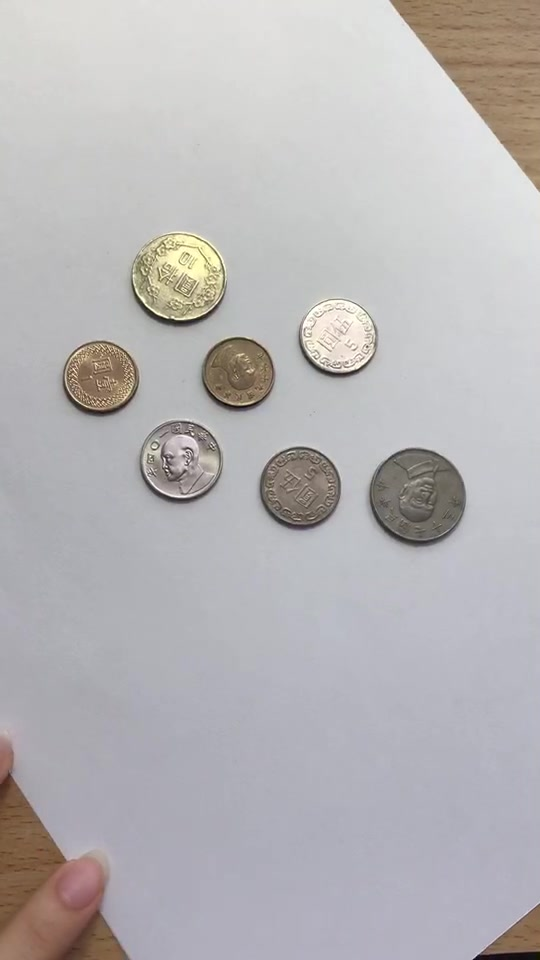1 dallar: (61, 335, 143, 416), (198, 333, 280, 414)
10 dallar: (122, 222, 234, 328), (359, 443, 471, 549)
5 dallar: (139, 419, 229, 509), (255, 440, 345, 530), (291, 296, 381, 386)
